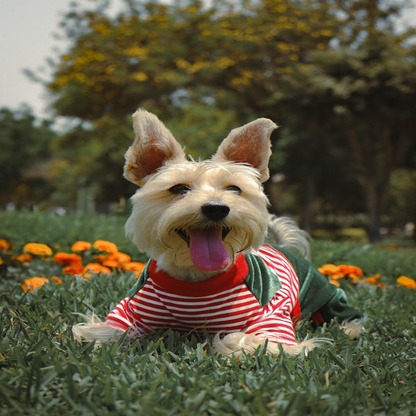yorkshire: (69, 107, 354, 357)
